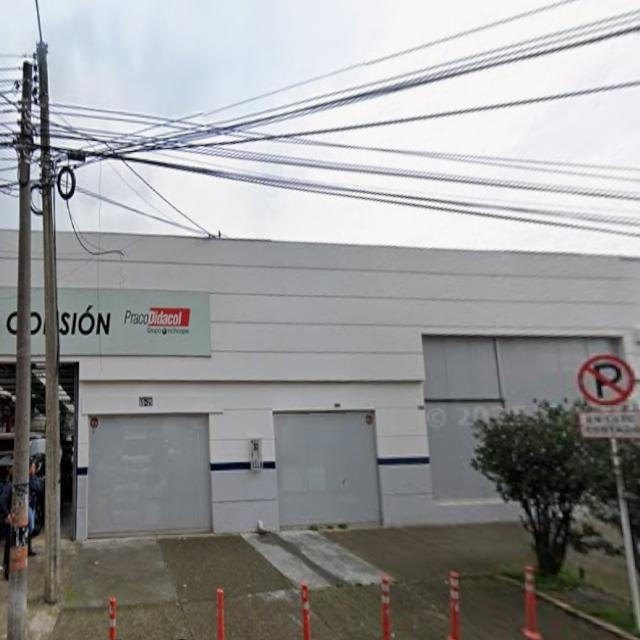fachada: (66, 233, 636, 516)
poste: (8, 63, 32, 639), (37, 41, 60, 604), (612, 439, 639, 630), (523, 566, 541, 639), (382, 576, 391, 639), (301, 583, 310, 639), (217, 588, 224, 639)
